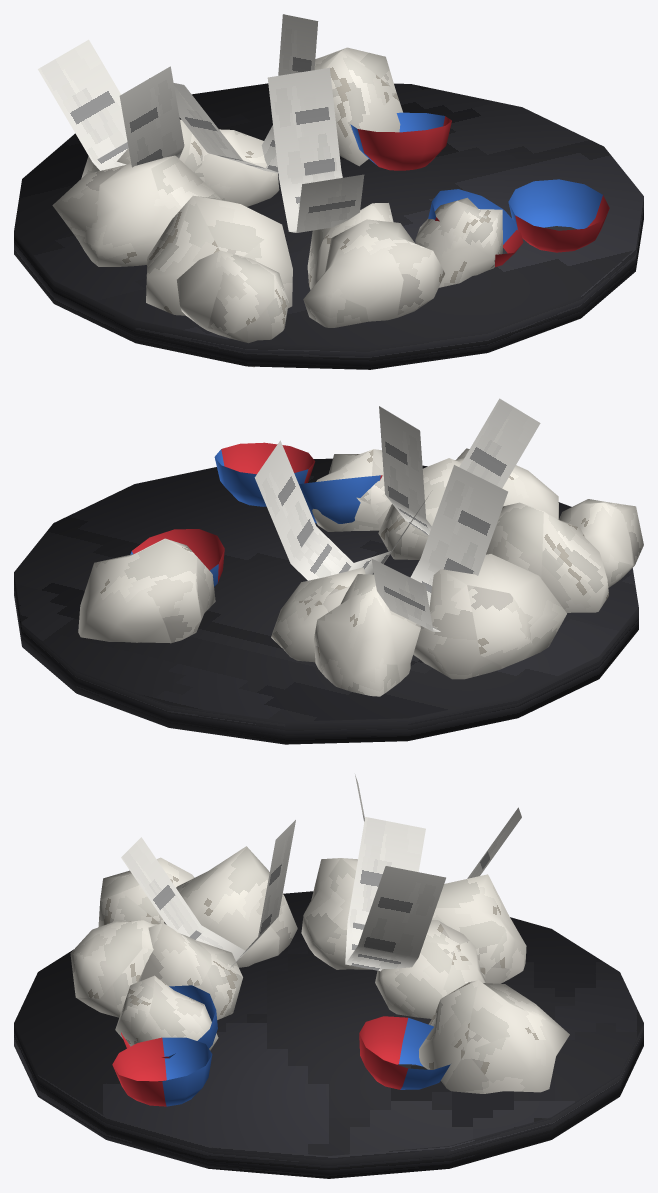
Rendered from binfill.glb.
3 renders of one model, top to bottom at view 1: azimuth 30°, elevation 25°; view 2: azimuth 150°, elevation 25°; view 3: azimuth 270°, elevation 25°, orthographic.
Parts seen in each view (by area): view 1: Cylinder; view 2: Cylinder; view 3: Cylinder.
Part boxes in pixels (bbox=[...]): Cylinder: bbox=[14, 14, 643, 369]; Cylinder: bbox=[14, 398, 643, 744]; Cylinder: bbox=[14, 774, 643, 1178].
Size of the model in its own units: 0.3 by 0.116 by 0.3.
4 materials, 4 textured.
